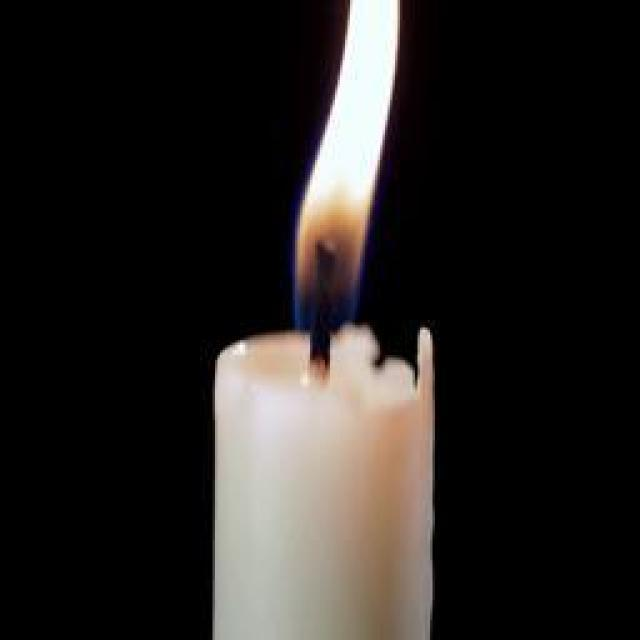Fire: (298, 0, 402, 330)
